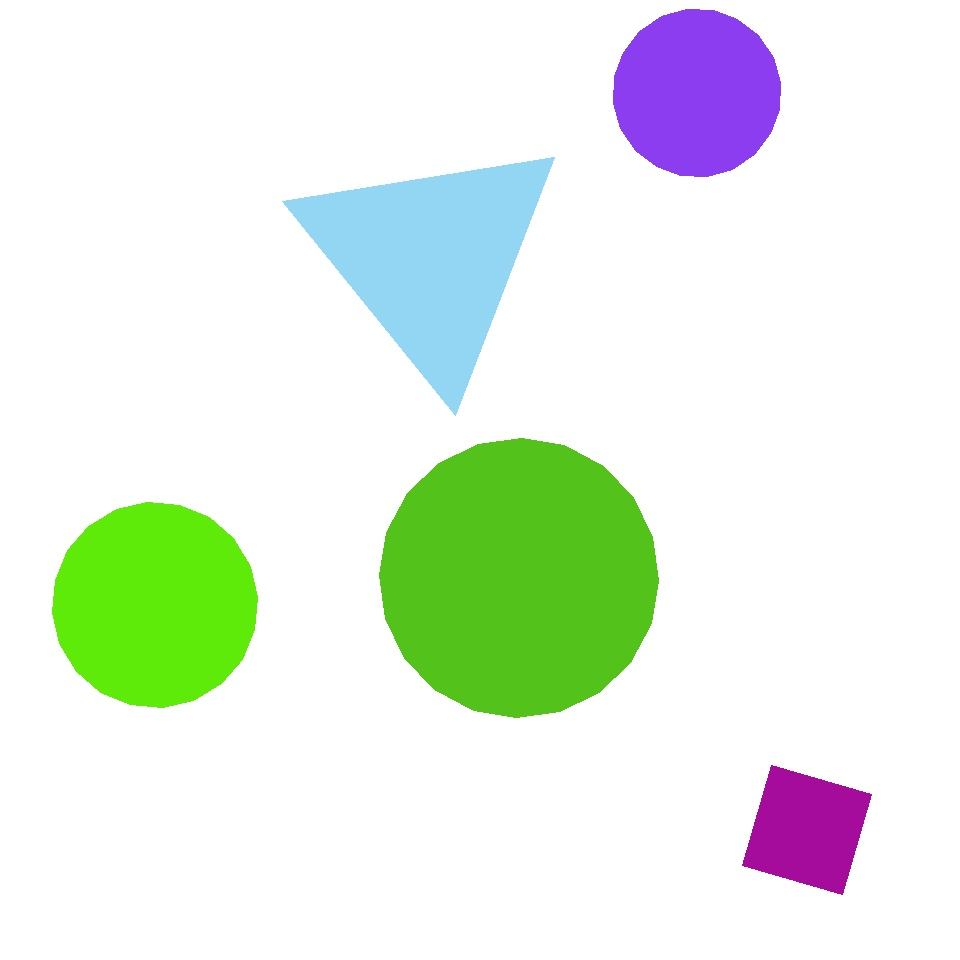circle: (156, 308, 442, 572), (295, 129, 567, 387)
square: (158, 360, 371, 574), (471, 352, 654, 534), (742, 766, 871, 894)
triangle: (380, 438, 659, 717), (53, 502, 258, 708), (614, 10, 780, 176)
